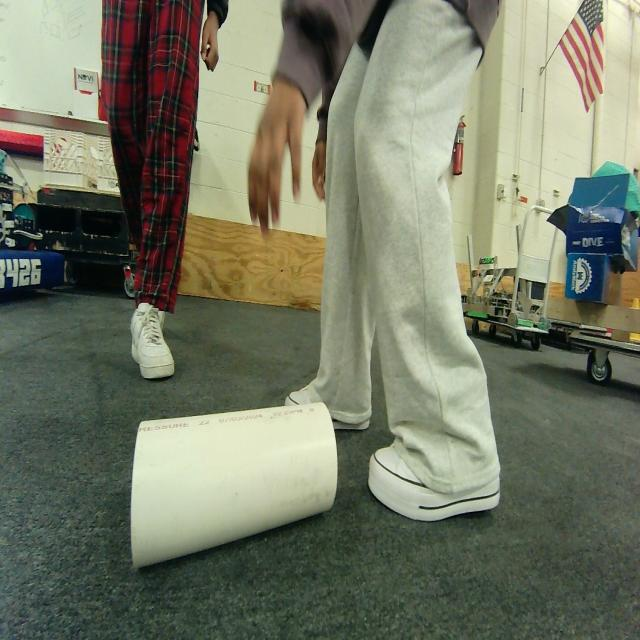coral: (118, 390, 346, 579)
